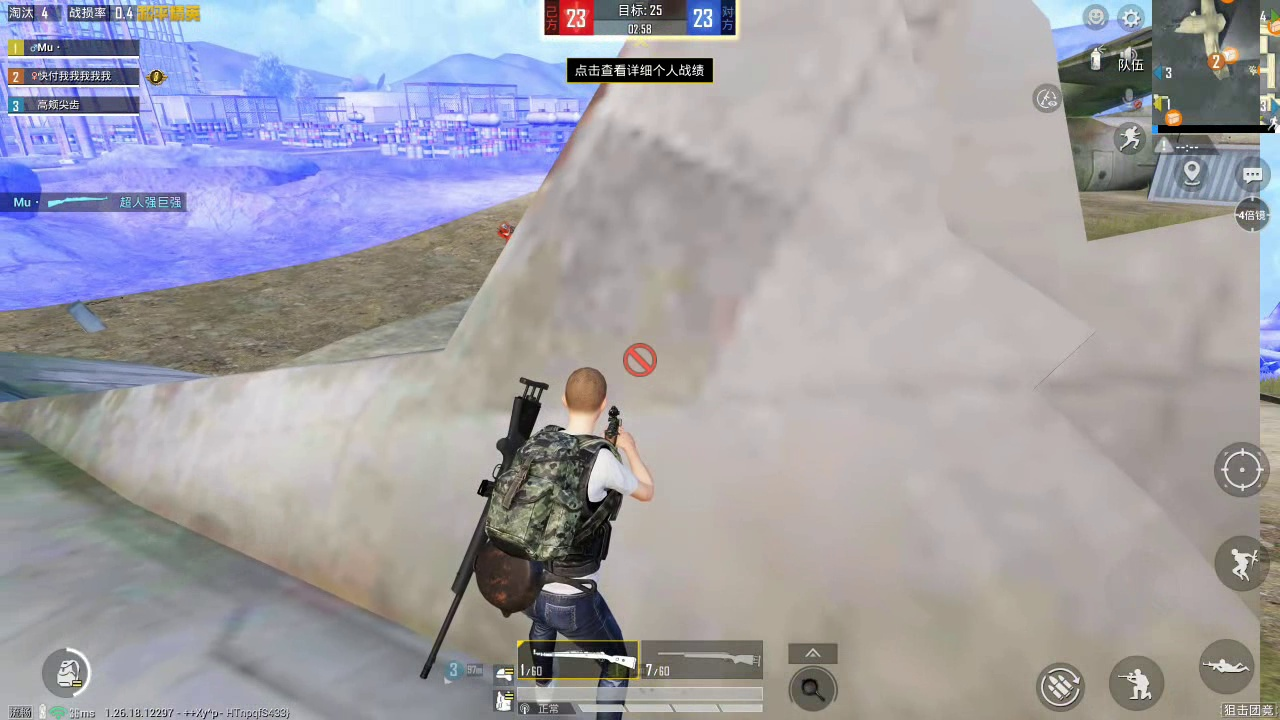enemy: (498, 219, 514, 237)
